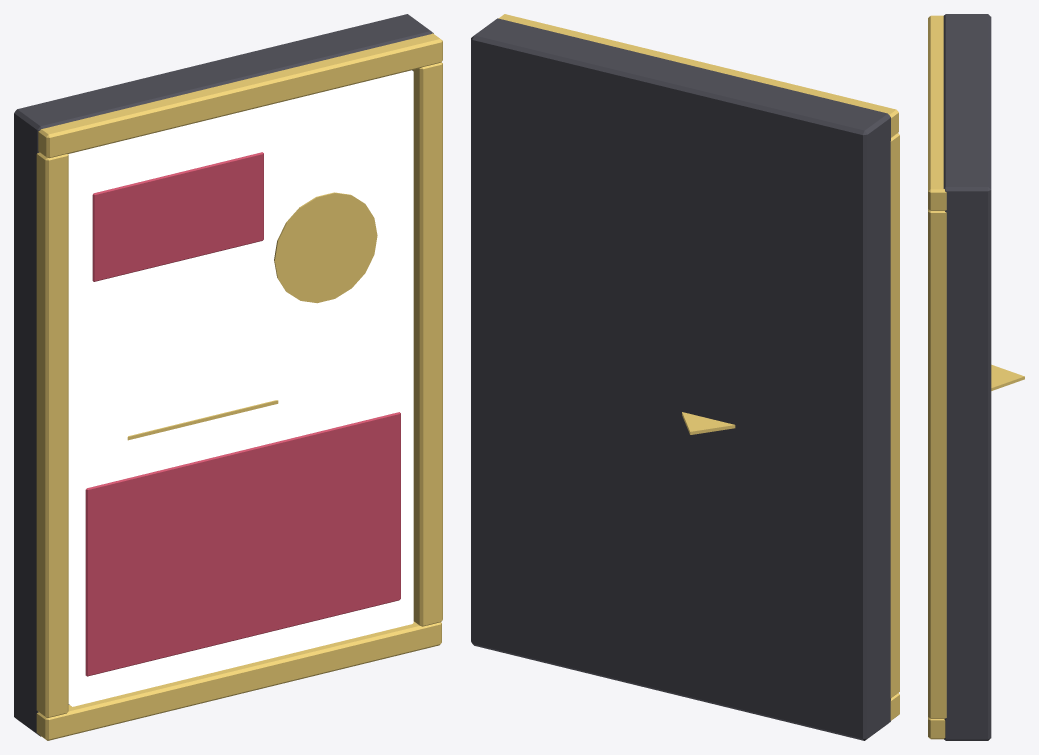
Rendered from poster_lightbox.glb.
3 views of the same model, side by side, from view 1: azimuth 30°, elevation 25°; view 2: azimuth 150°, elevation 25°; view 3: azimuth 270°, elevation 25° (orthographic). The views are drawn at different scales.
Visible parts, largest first — view 1: poster-light-box-wall; view 2: poster-light-box-wall; view 3: poster-light-box-wall.
Boxes of the visible parts, box(x1,y1,x2,y2) form: poster-light-box-wall: box(14, 14, 442, 740); poster-light-box-wall: box(471, 14, 899, 740); poster-light-box-wall: box(928, 14, 1024, 740).
Size of the model in its own units: 1.02 by 1.5 by 0.2372.
